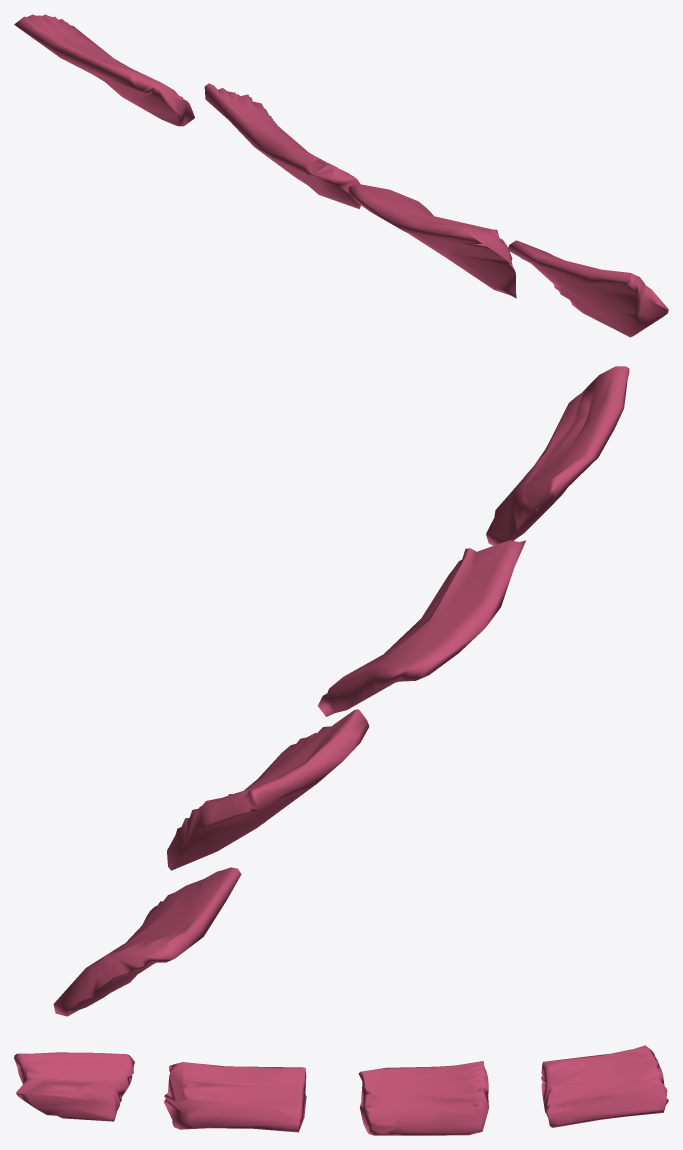
3 views of the same model, one above another, from view 1: azimuth 30°, elevation 25°; view 2: azimuth 150°, elevation 25°; view 3: azimuth 270°, elevation 25° (orthographic). The views are drawn at different scales.
Parts seen in each view (by area): view 1: 右侧腰外侧横突间肌腹侧部; view 2: 右侧腰外侧横突间肌腹侧部; view 3: 右侧腰外侧横突间肌腹侧部.
Boxes of the visible parts, bbox=[...] form: 右侧腰外侧横突间肌腹侧部: bbox=[14, 14, 668, 337]; 右侧腰外侧横突间肌腹侧部: bbox=[53, 366, 629, 1016]; 右侧腰外侧横突间肌腹侧部: bbox=[14, 1045, 668, 1135].
Size of the model in its own units: 0.0355 by 0.0258 by 0.1717.
